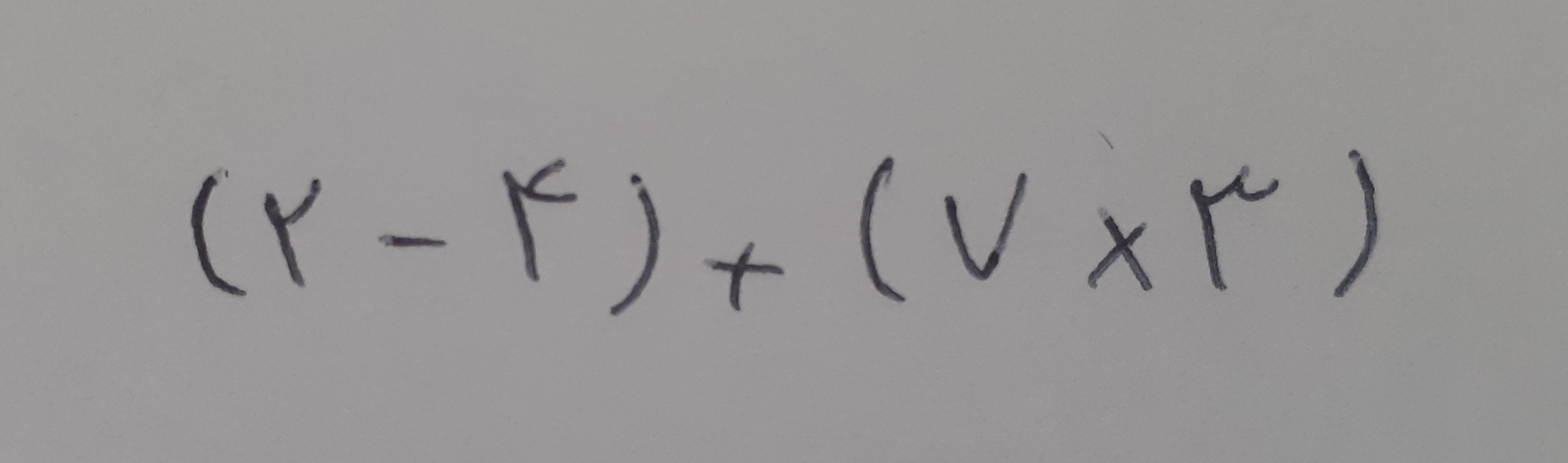character: (1190, 166, 1279, 291), (504, 158, 578, 283), (946, 171, 1028, 281), (191, 167, 248, 298), (609, 175, 660, 317), (1333, 148, 1377, 299), (861, 157, 906, 304), (265, 177, 323, 289), (702, 241, 784, 312), (1087, 209, 1153, 291), (377, 233, 447, 248)
